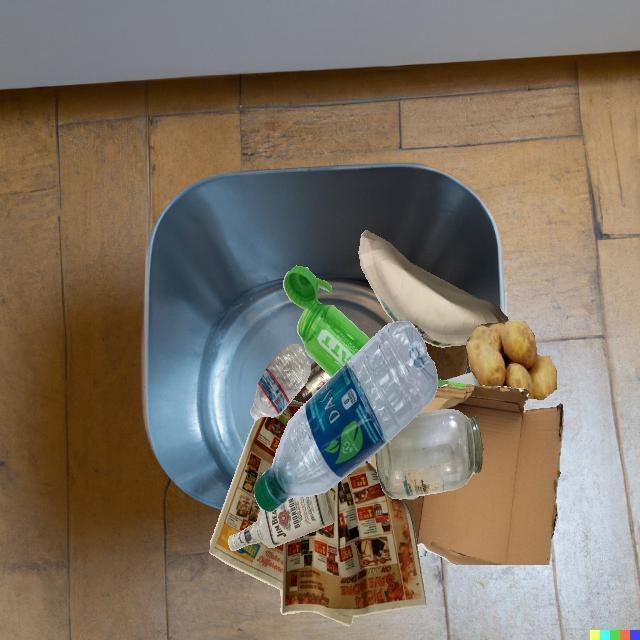biowaste: (466, 321, 557, 399)
cardboard: (402, 379, 564, 565), (423, 341, 469, 380)
glass: (375, 409, 483, 499), (228, 489, 335, 551), (292, 361, 331, 404)
paper: (210, 400, 426, 626), (359, 230, 509, 347), (444, 372, 481, 385), (417, 545, 427, 557), (366, 457, 371, 465)
plastic: (254, 321, 438, 512), (283, 265, 371, 378), (250, 344, 310, 421)
